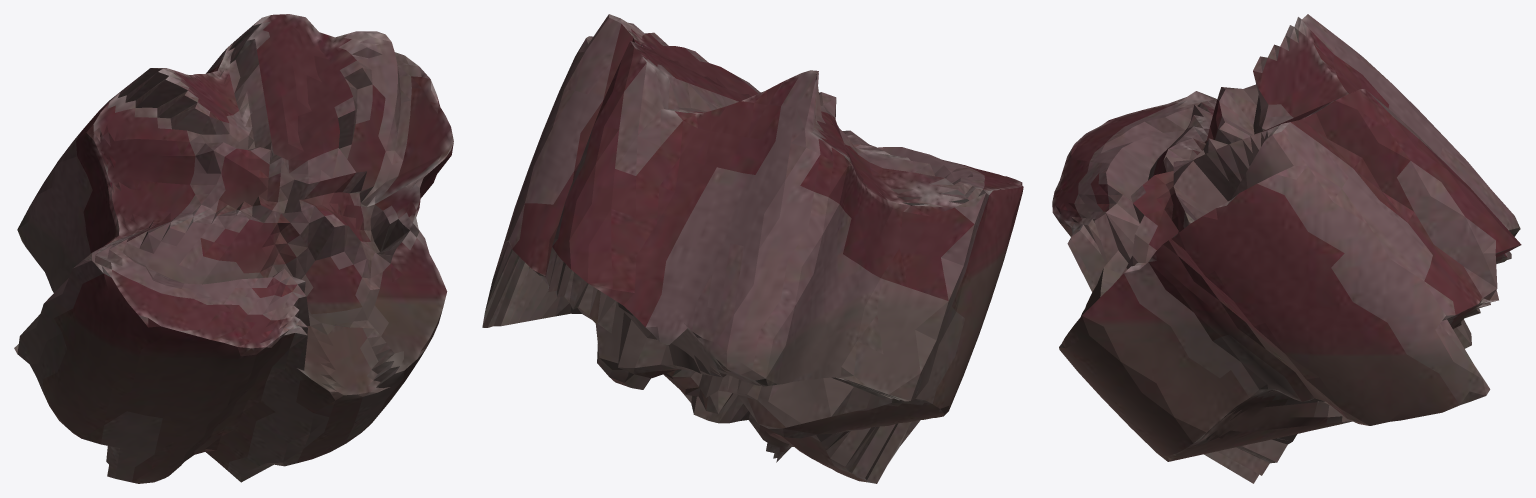
The model's file is huge-promethium-asteroid.glb.
3 views of the same model, side by side, from view 1: azimuth 30°, elevation 25°; view 2: azimuth 150°, elevation 25°; view 3: azimuth 270°, elevation 25° (orthographic). The views are drawn at different scales.
Parts seen in each view (by area): view 1: body; view 2: body; view 3: body.
Boxes of the visible parts, left/top/right/bottom form: body: left=14, top=14, right=453, bottom=483; body: left=482, top=14, right=1023, bottom=483; body: left=1052, top=14, right=1521, bottom=483.
Size of the model in its own units: 10.65 by 11.3 by 10.98.
Materials: 1 (1 with a texture image).
